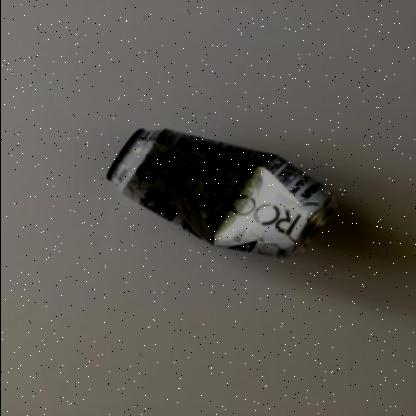Can: (106, 122, 338, 260)
